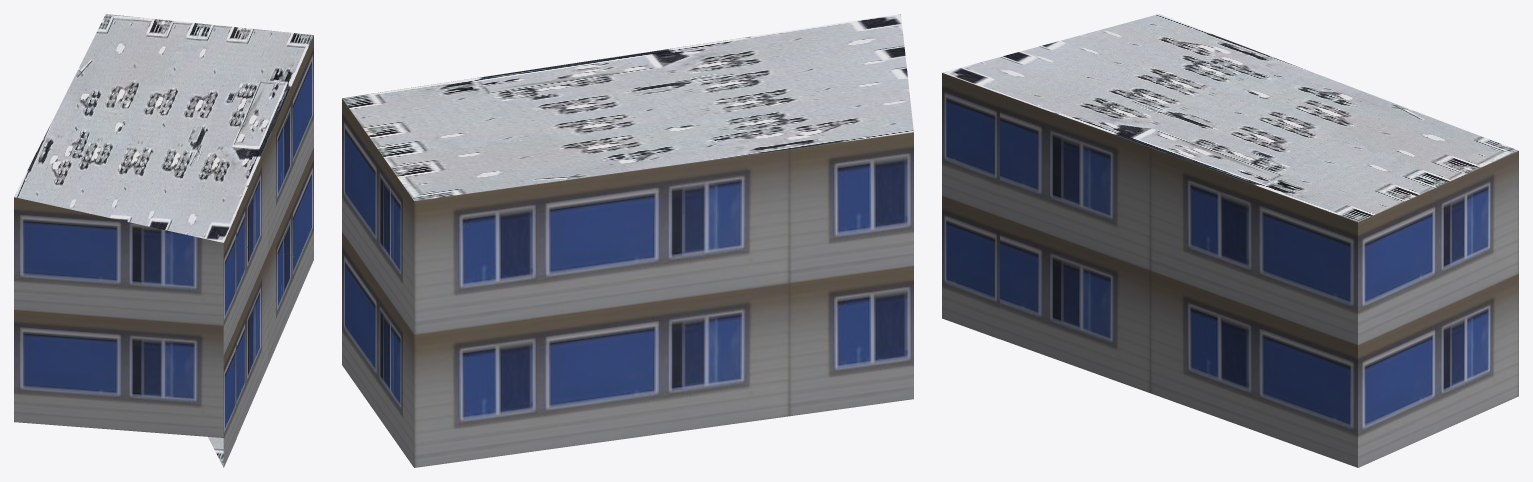
File: ResTex__4687.fbx
3 views of the same model, side by side, from view 1: azimuth 30°, elevation 25°; view 2: azimuth 150°, elevation 25°; view 3: azimuth 270°, elevation 25° (orthographic). The views are drawn at different scales.
Visible parts, largest first — view 1: CityEngineMaterial_23_m, CityEngineMaterial_8_m; view 2: CityEngineMaterial_23_m, CityEngineMaterial_8_m; view 3: CityEngineMaterial_23_m, CityEngineMaterial_8_m.
Part boxes in pixels (x1,y1,x2,y2): CityEngineMaterial_23_m: (14,35,313,467); CityEngineMaterial_8_m: (14,14,313,466); CityEngineMaterial_23_m: (342,98,913,467); CityEngineMaterial_8_m: (342,14,913,200); CityEngineMaterial_23_m: (942,73,1518,467); CityEngineMaterial_8_m: (942,14,1518,221).
Size of the model in its own units: 10.91 by 6 by 12.77.
Materials: 2 (2 with a texture image).
